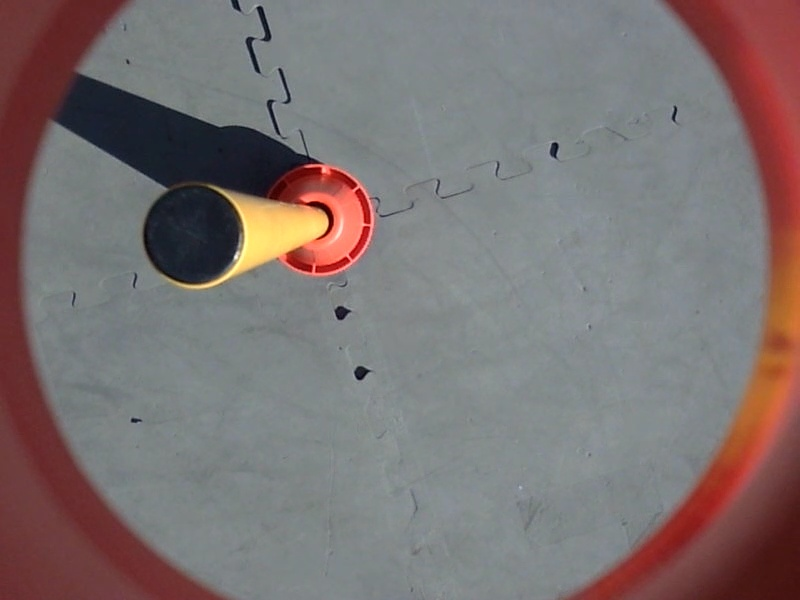tip: (135, 177, 260, 295)
